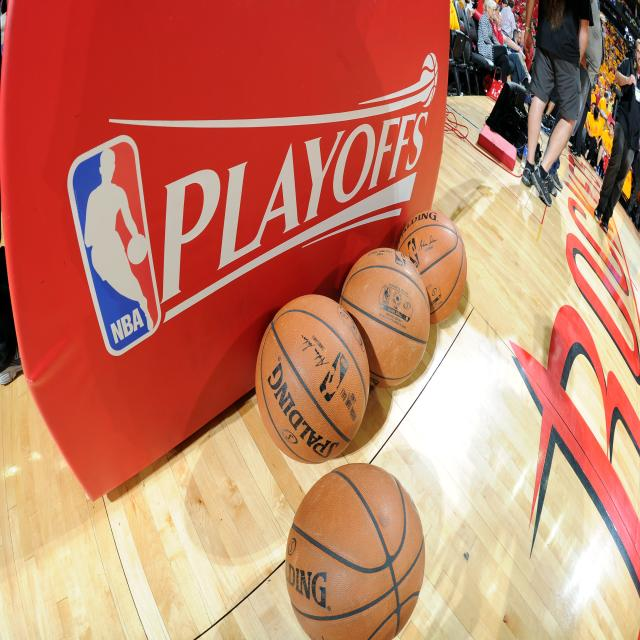non_orange: (284, 481, 427, 621), (237, 305, 379, 443), (342, 264, 432, 365), (406, 225, 470, 308)
